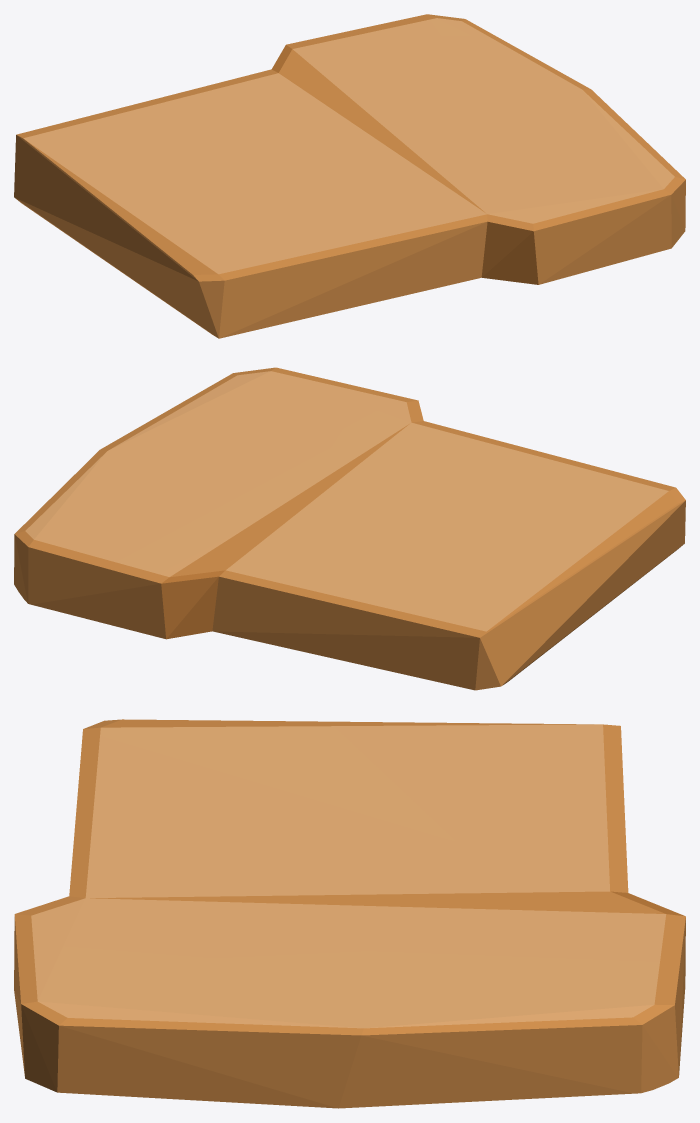
Rendered from Toast_02.fbx.
3 views of the same model, one above another, from view 1: azimuth 30°, elevation 25°; view 2: azimuth 150°, elevation 25°; view 3: azimuth 270°, elevation 25° (orthographic). The views are drawn at different scales.
Visible parts, largest first — view 1: Toast_02; view 2: Toast_02; view 3: Toast_02.
Part boxes in pixels (bbox=[...]): Toast_02: bbox=[14, 14, 685, 338]; Toast_02: bbox=[14, 367, 685, 690]; Toast_02: bbox=[14, 719, 685, 1108].
Size of the model in its own units: 15.24 by 1.74 by 13.64.
